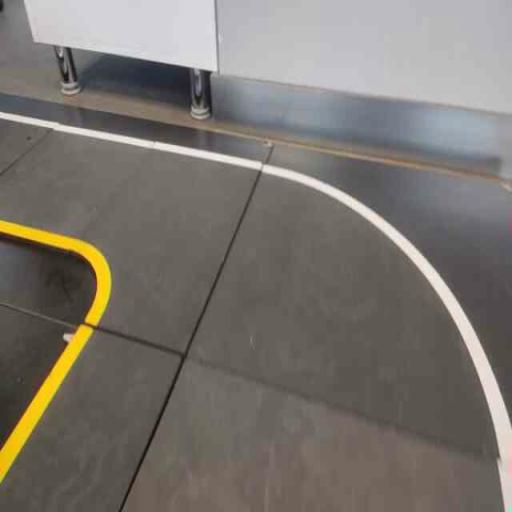left: (27, 136, 511, 464)
